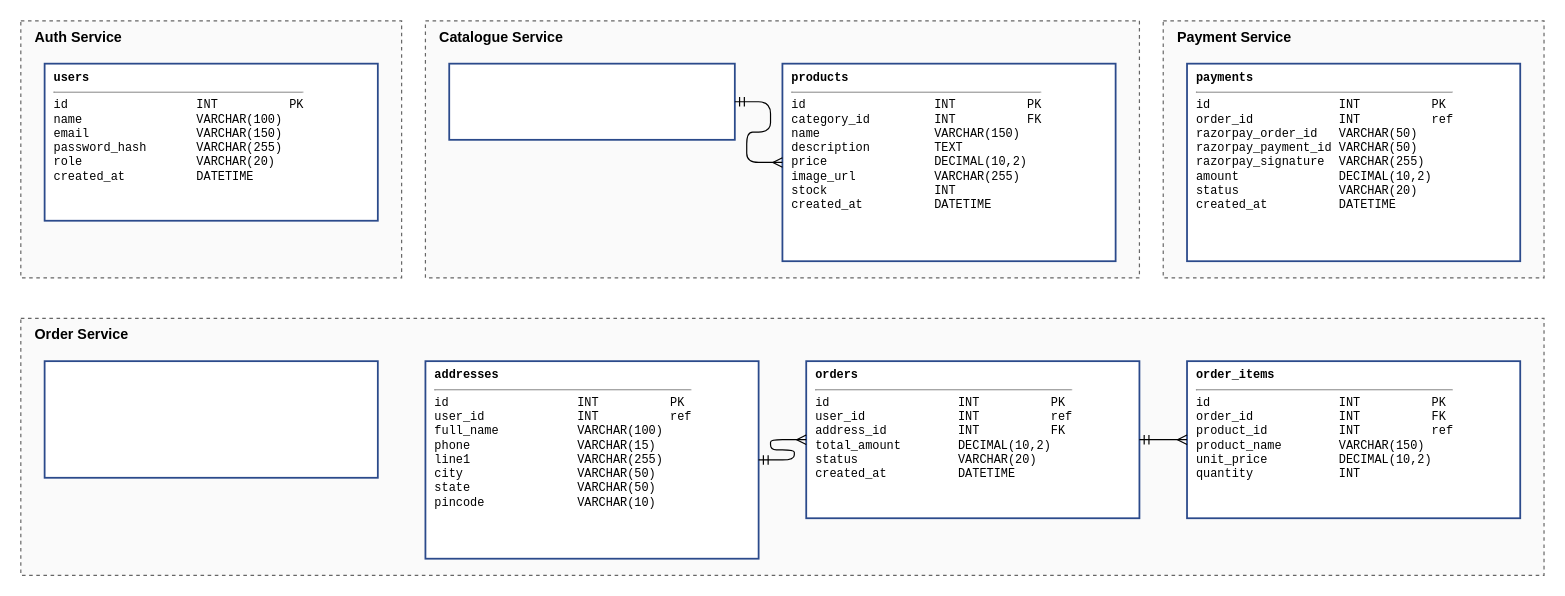
The diagram is 1565 pixels wide and 596 high, and some of its shapes have lost their labels. The shapes that lost their labels are listed below. From the top down, each one's centre as x and y in pixels, then its label:
(x=591, y=101): categories id INT PK name VARCHAR(50)
(x=210, y=419): cart_items id INT PK user_id INT ref product_id INT ref quantity INT
